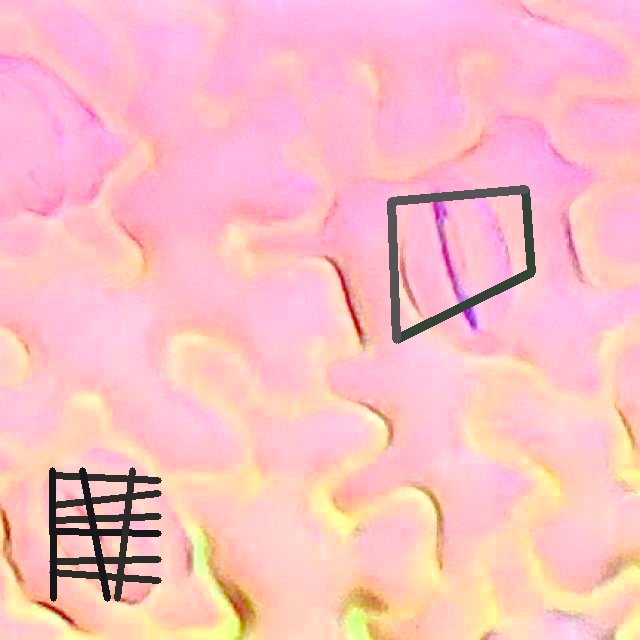close: (50, 468, 160, 601)
open: (387, 185, 535, 343)
